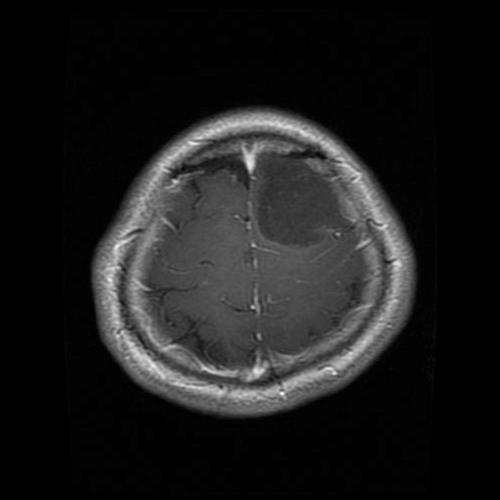Tumour-Glioma: (253, 148, 332, 261)
